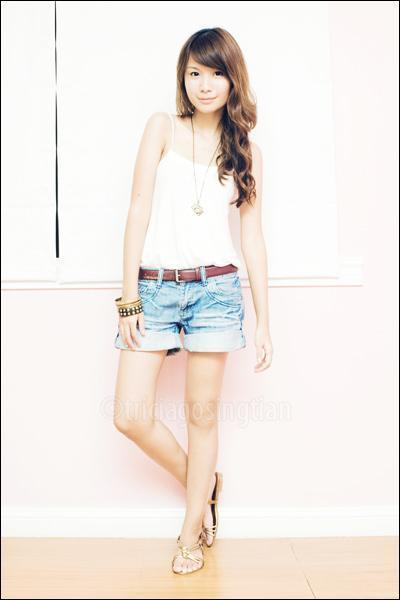shirt: (142, 117, 247, 275)
shoe: (171, 519, 215, 573)
shorts: (138, 266, 254, 356)
